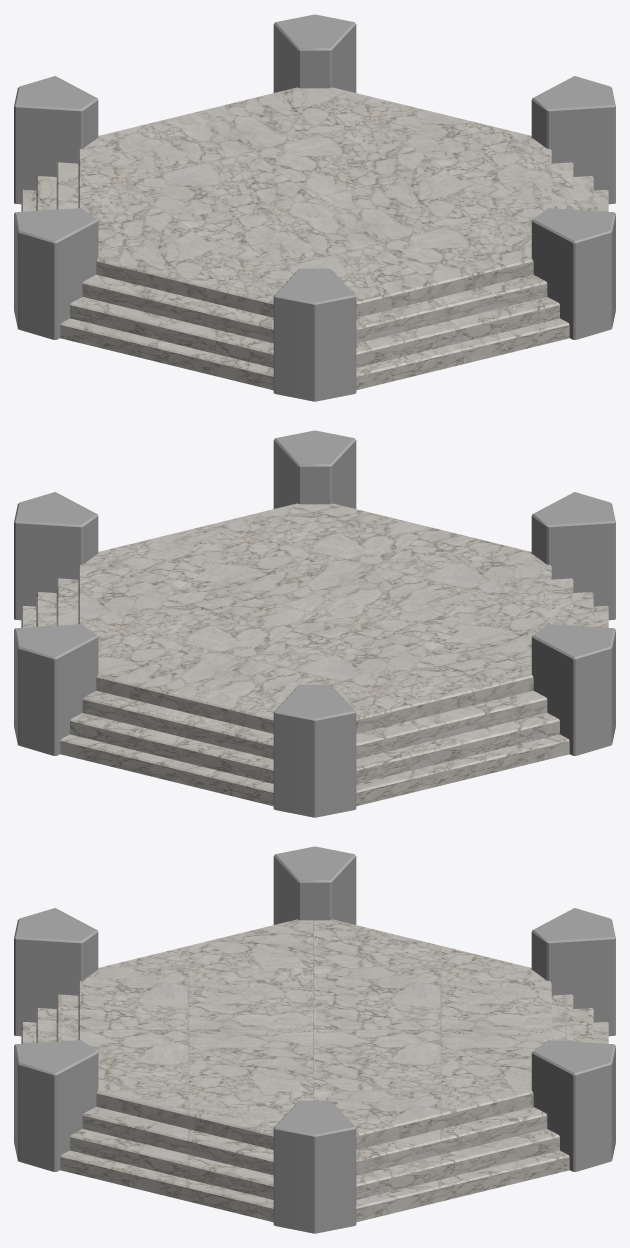
Rendered from shrine_area.fbx.
3 renders of one model, top to bottom at view 1: azimuth 30°, elevation 25°; view 2: azimuth 150°, elevation 25°; view 3: azimuth 270°, elevation 25°, orthographic.
Visible parts, largest first — view 1: pCylinder12; view 2: pCylinder12; view 3: pCylinder12.
Part boxes in pixels (<box>): pCylinder12: <box>14,14,615,401</box>; pCylinder12: <box>14,430,615,817</box>; pCylinder12: <box>14,846,615,1233</box>.
Bounding box in the file's own units: 2091 × 332 × 1838.
